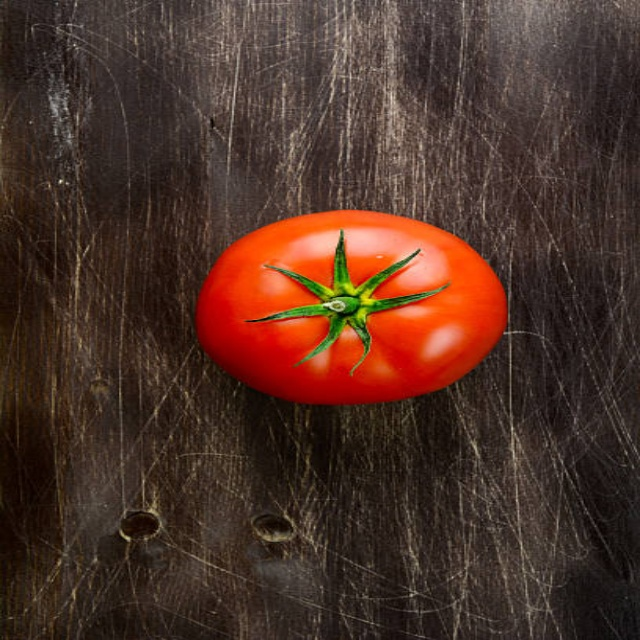tomato: (201, 191, 507, 402)
